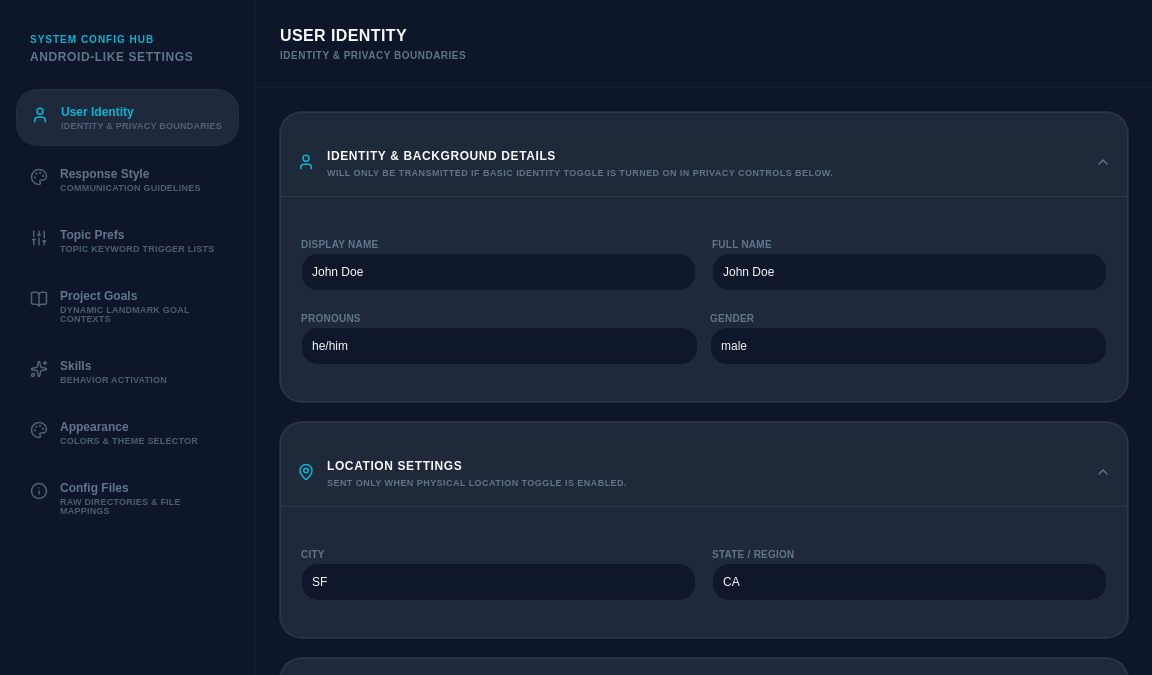
Scenario: SettingsView Integration Tests › 5. Topic preferences do not render Store add-on contributions
Click the button "Topic Prefs Topic keyword trigger lists".
click(128, 240)  # box [16,213,239,268]
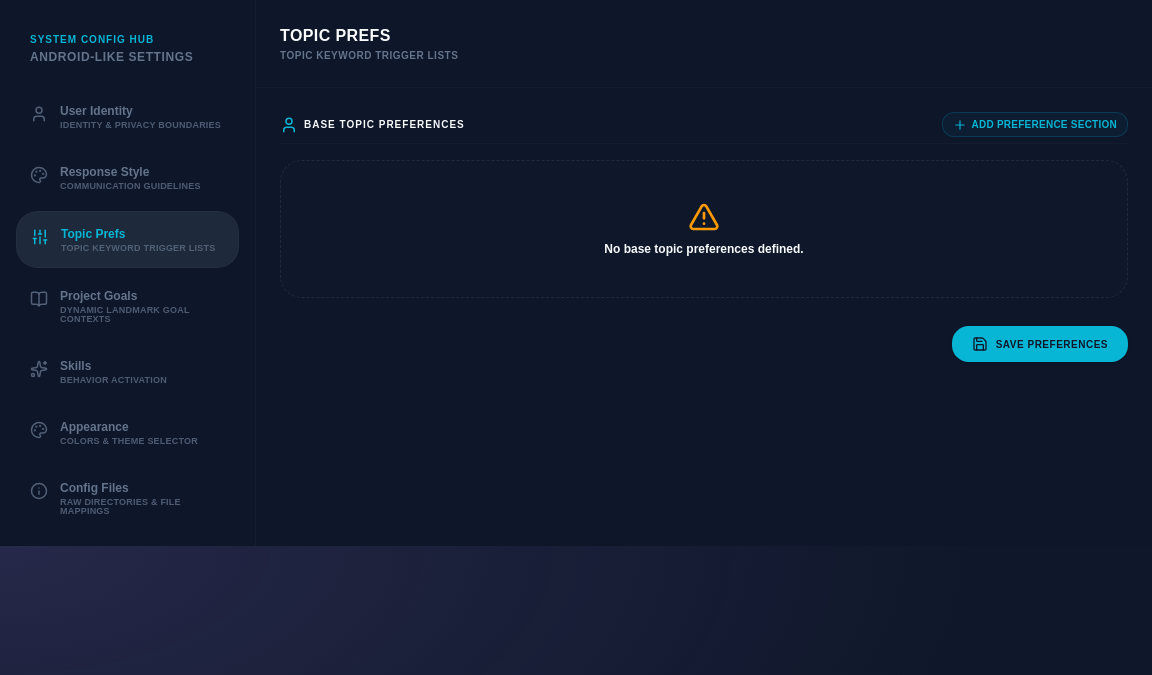
Now the heading "Base Topic Preferences" is shown, box [280,116,465,134]
